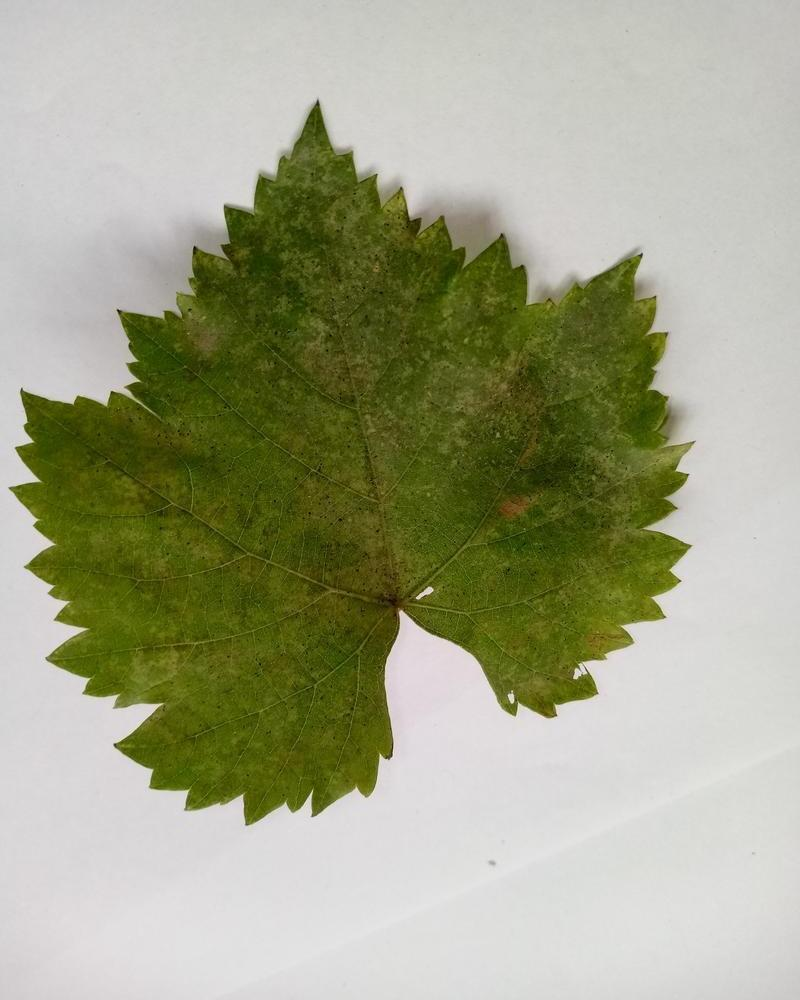Powdery-Mildew: (261, 127, 428, 359), (472, 296, 623, 468), (490, 496, 639, 668), (263, 415, 388, 617), (69, 543, 222, 708), (383, 371, 471, 483), (186, 298, 249, 361), (604, 447, 667, 510)
